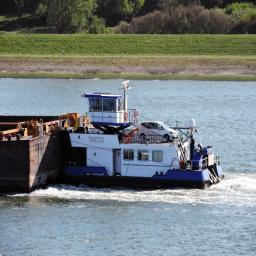tugboat: (57, 79, 229, 197)
